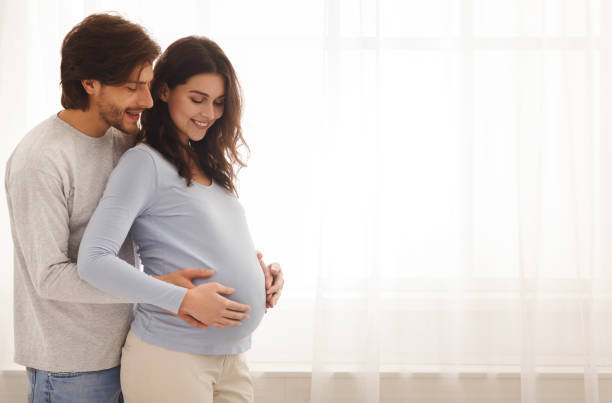without mask: (68, 42, 154, 131), (156, 63, 242, 152)
